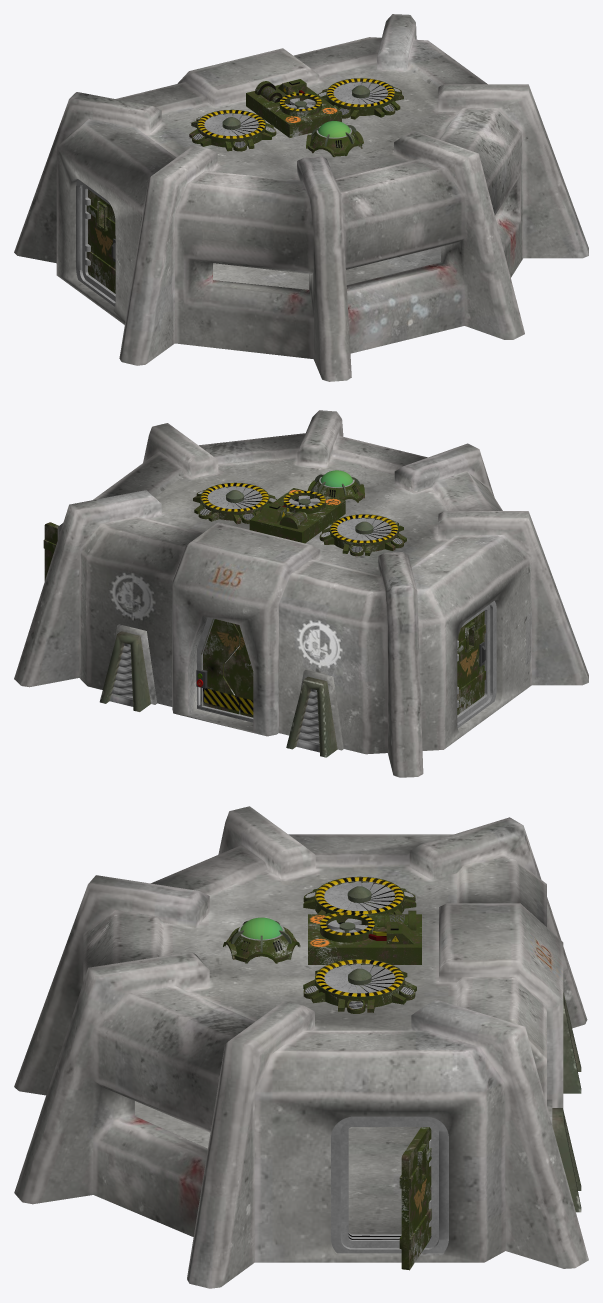
3 views of the same model, one above another, from view 1: azimuth 30°, elevation 25°; view 2: azimuth 150°, elevation 25°; view 3: azimuth 270°, elevation 25° (orthographic). The views are drawn at different scales.
Parts seen in each view (by area): view 1: Bunker; view 2: Bunker; view 3: Bunker.
Boxes of the visible parts, x1,y1,x2,y2 form: Bunker: (14, 14, 588, 381); Bunker: (14, 410, 588, 777); Bunker: (14, 806, 588, 1288).
Bounding box in the file's own units: 1824 × 629 × 1486.
Materials: 3 (3 with a texture image).
